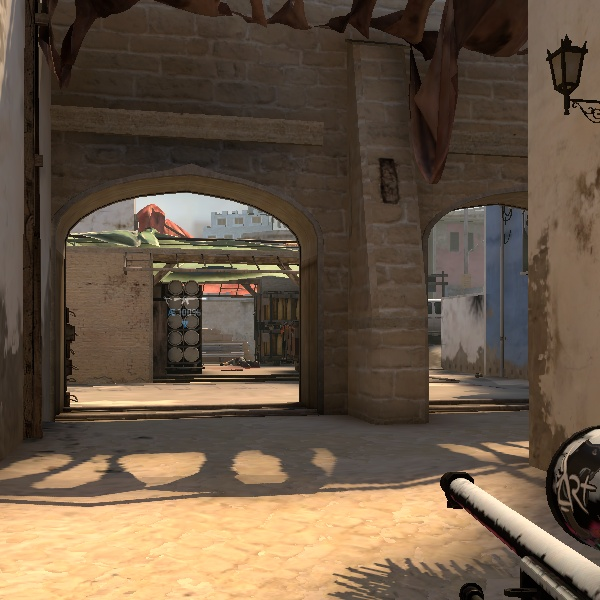t_body: (163, 292, 209, 372)
